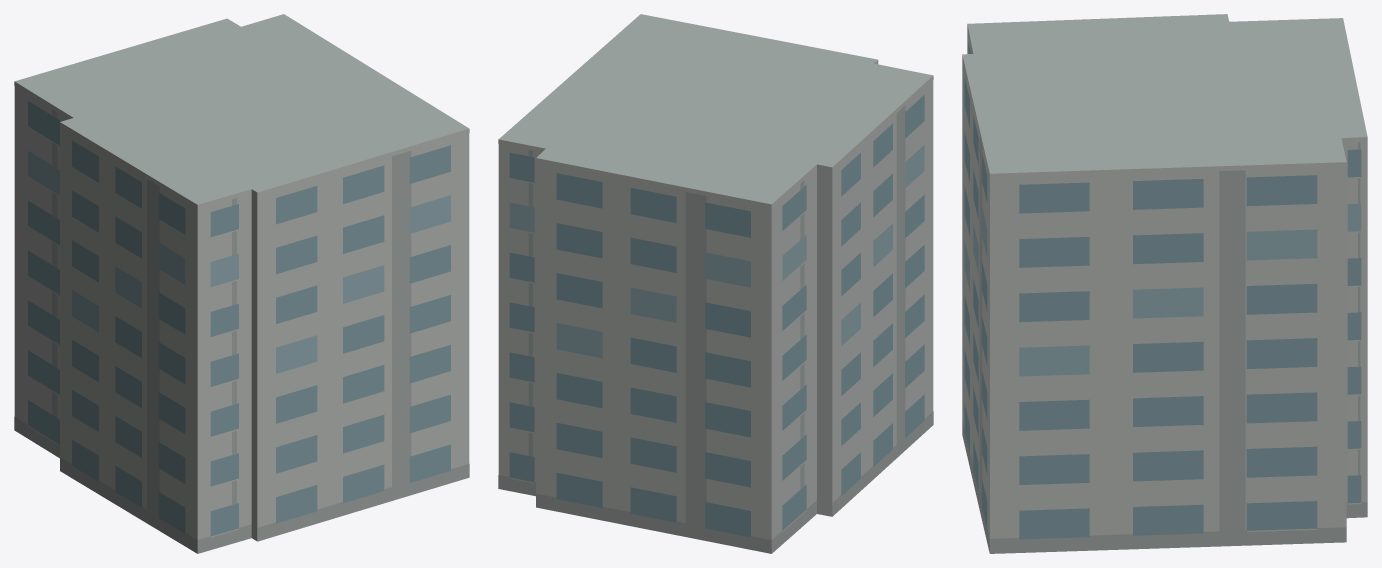
File: survey-upis-32701382.glb
3 renders of one model, left to right at view 1: azimuth 30°, elevation 25°; view 2: azimuth 150°, elevation 25°; view 3: azimuth 270°, elevation 25°, orthographic. The views are drawn at different scales.
Visible parts, largest first — view 1: survey-upis-32701382.tmp; view 2: survey-upis-32701382.tmp; view 3: survey-upis-32701382.tmp.
Part boxes in pixels (x1,y1,x2,y2): survey-upis-32701382.tmp: [14, 14, 469, 553]; survey-upis-32701382.tmp: [498, 14, 933, 553]; survey-upis-32701382.tmp: [962, 14, 1367, 553].
Bounding box in the file's own units: 17.24 × 19.13 × 18.49.
